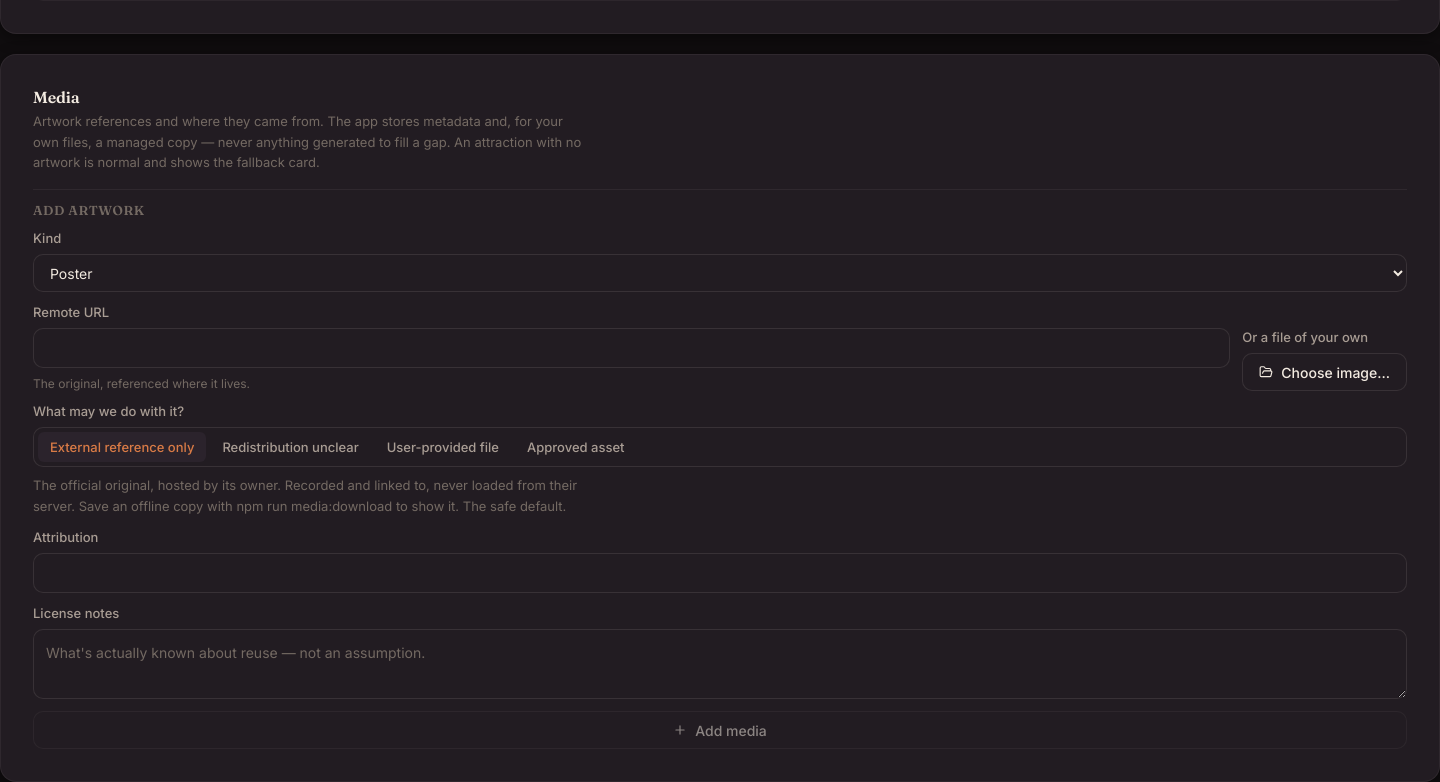
it: YearEditor › media › explains what each distribution policy actually means
(page scrolled)
Expected: the text "Recorded and linked to, never loaded from their server" is shown, x1=33 y1=477 x2=577 y2=514
What coordinates should you click on to do the following:
click the radio button labelled "Redistribution unclear"
I would click on:
 (291, 447)
Its box is x1=210 y1=432 x2=371 y2=462.
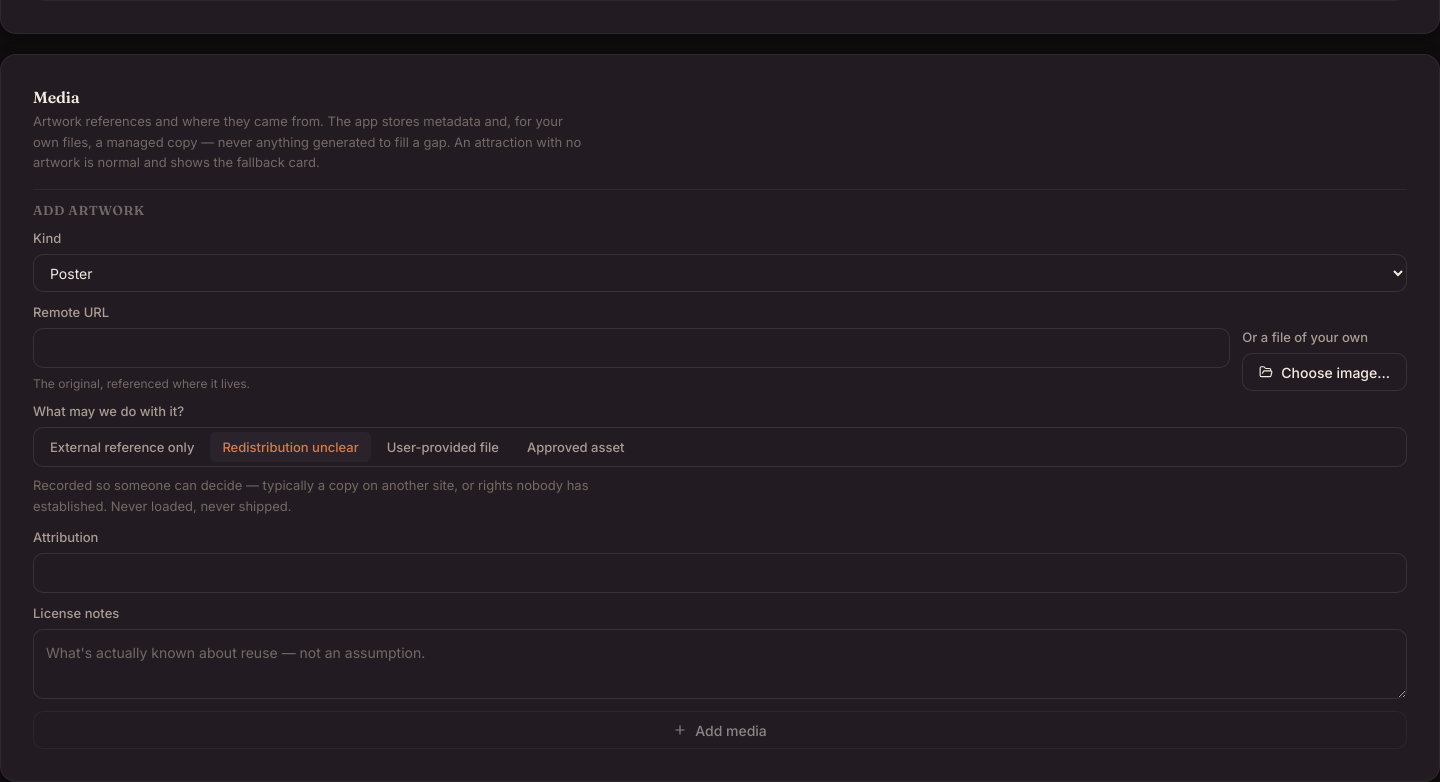
Now the text "Never loaded, never shipped" is shown, box x1=33 y1=477 x2=588 y2=514
What coordinates should you click on to do the following:
click the radio button labelled "Approved asset"
I would click on:
 (576, 447)
Its box is x1=515 y1=432 x2=636 y2=462.
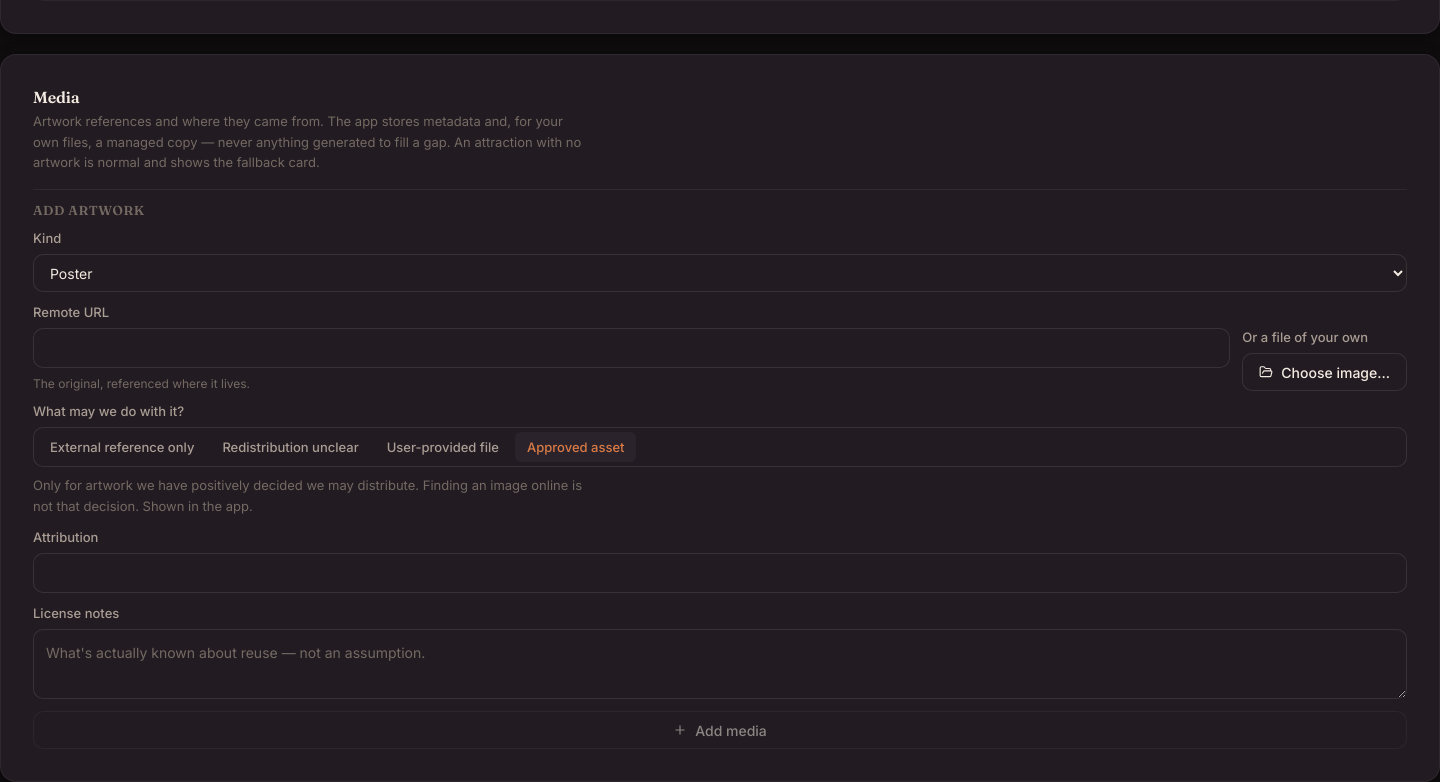
Now the text "Finding an image online is not that decision" is shown, box x1=33 y1=477 x2=582 y2=514
